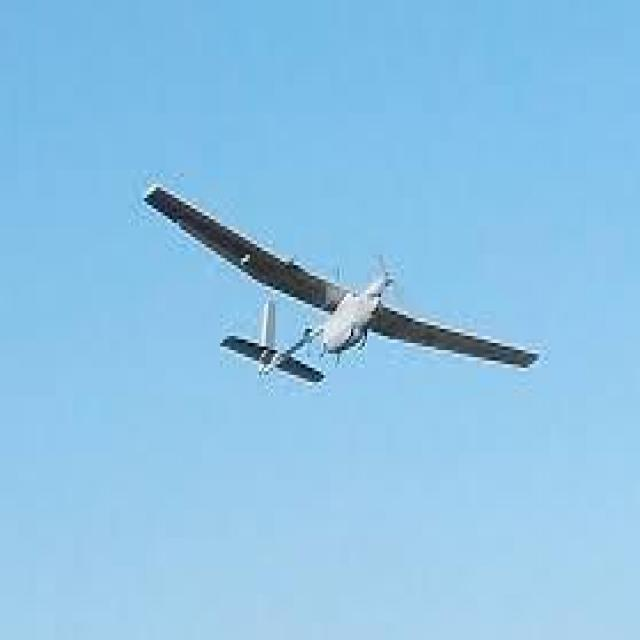iha: (154, 166, 543, 403)
